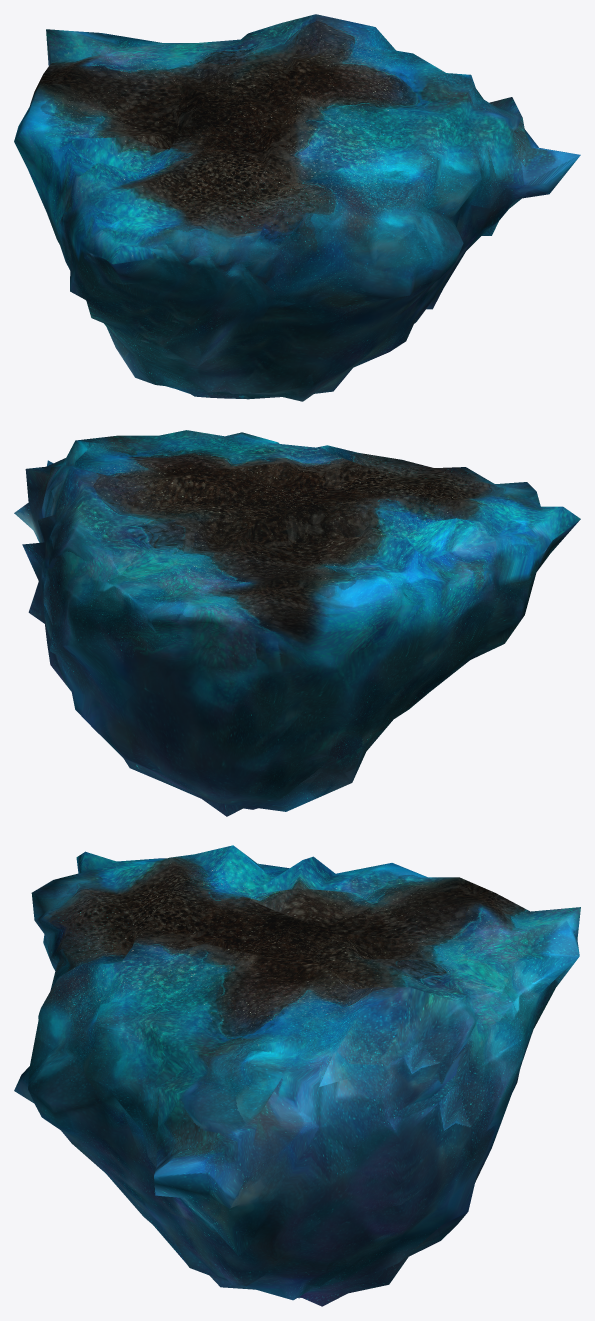
The model's file is Asteroid1.001.obj.
3 renders of one model, top to bottom at view 1: azimuth 30°, elevation 25°; view 2: azimuth 150°, elevation 25°; view 3: azimuth 270°, elevation 25°, orthographic. The views are drawn at different scales.
Visible parts, largest first — view 1: Asteroid_1.001_Asteroid1.001; view 2: Asteroid_1.001_Asteroid1.001; view 3: Asteroid_1.001_Asteroid1.001.
Boxes of the visible parts, left/top/right/bottom form: Asteroid_1.001_Asteroid1.001: left=14, top=14, right=580, bottom=401; Asteroid_1.001_Asteroid1.001: left=14, top=430, right=580, bottom=816; Asteroid_1.001_Asteroid1.001: left=14, top=845, right=580, bottom=1306.
Bounding box in the file's own units: 47.2 × 28.21 × 40.98.
Materials: 1 (1 with a texture image).
